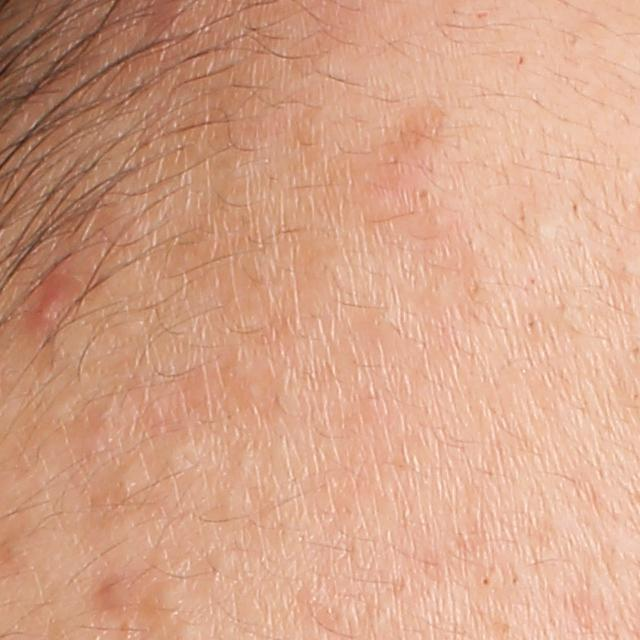comedo: (92, 461, 152, 527), (139, 572, 188, 630), (224, 442, 260, 489), (522, 214, 559, 257), (153, 436, 193, 475), (412, 183, 432, 203)
papule: (21, 267, 104, 340)
